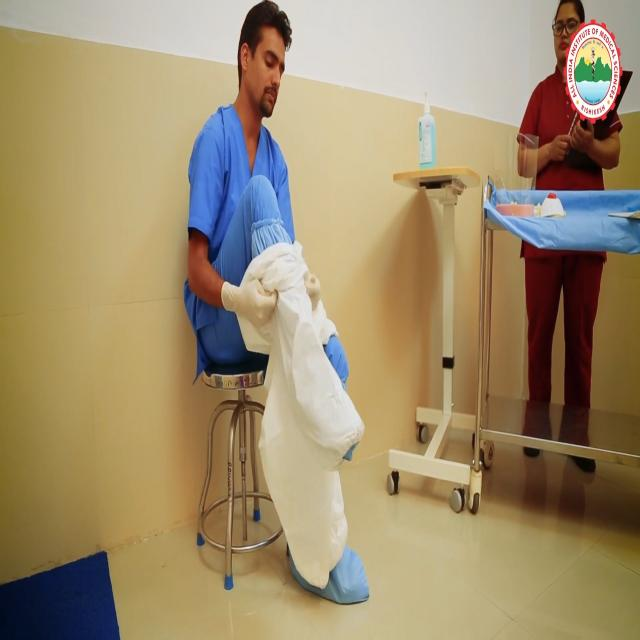Gloves: (219, 275, 283, 335)
